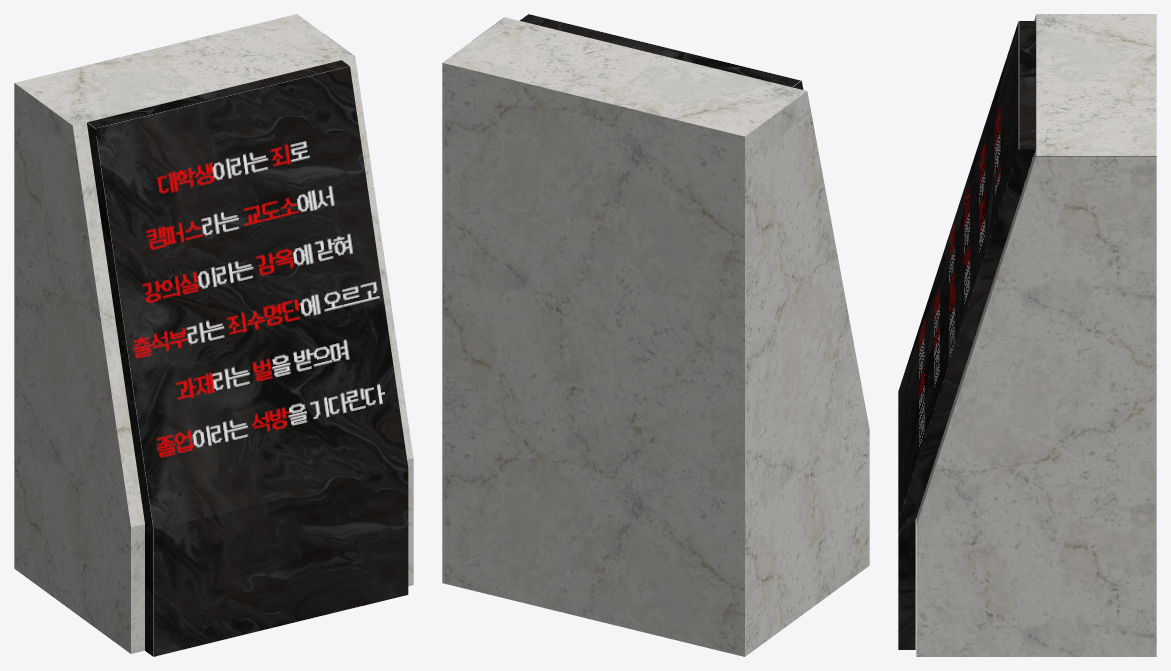
The model's file is theme03_headstone_middle.fbx.
3 renders of one model, left to right at view 1: azimuth 30°, elevation 25°; view 2: azimuth 150°, elevation 25°; view 3: azimuth 270°, elevation 25°, orthographic. The views are drawn at different scales.
Visible parts, largest first — view 1: headstone01.001; view 2: headstone01.001; view 3: headstone01.001.
Boxes of the visible parts, bbox=[...] form: headstone01.001: bbox=[14, 14, 413, 656]; headstone01.001: bbox=[442, 14, 869, 656]; headstone01.001: bbox=[898, 14, 1156, 656].
Size of the model in its own units: 49 by 80.5 by 37.59.
1 material, 1 textured.
